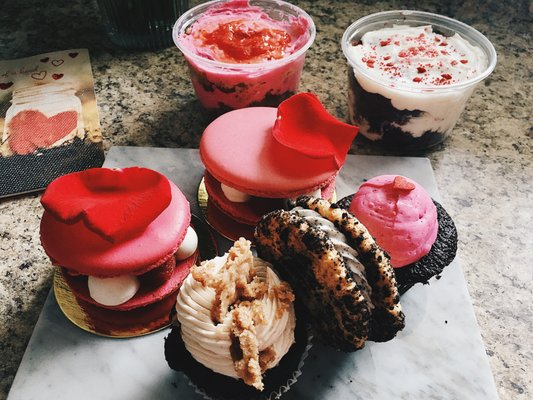pizza: (340, 9, 498, 157)
sushi: (341, 10, 498, 157), (172, 0, 316, 112)
